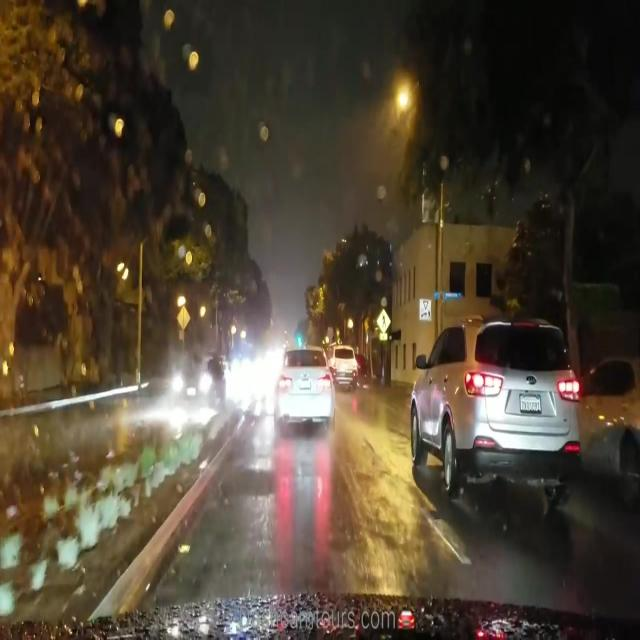Car: (410, 324, 577, 503), (274, 347, 334, 424), (170, 354, 227, 409), (331, 341, 358, 388)
